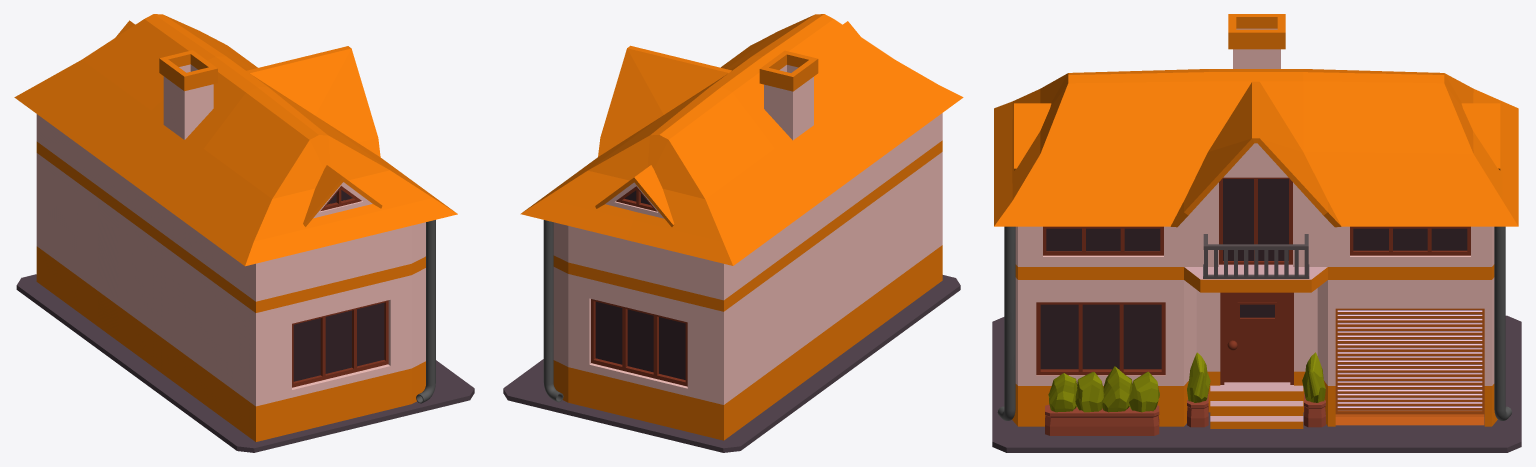
Rendered from PublicBuilding_4C.obj.
The picture shows the model from 3 angles, left to right: view 1: azimuth 30°, elevation 25°; view 2: azimuth 150°, elevation 25°; view 3: azimuth 270°, elevation 25°; orthographic projection. The views are drawn at different scales.
Parts seen in each view (by area): view 1: PublicBuilding_4_Building19_Cube.148; view 2: PublicBuilding_4_Building19_Cube.148; view 3: PublicBuilding_4_Building19_Cube.148.
Part boxes in pixels (x1,y1,x2,y2): PublicBuilding_4_Building19_Cube.148: (14,14,474,452); PublicBuilding_4_Building19_Cube.148: (503,14,963,452); PublicBuilding_4_Building19_Cube.148: (992,14,1521,452).
Size of what is drawn, in the model's own units: 2.93 by 3.44 by 4.97.
Materials: 1 (1 with a texture image).
